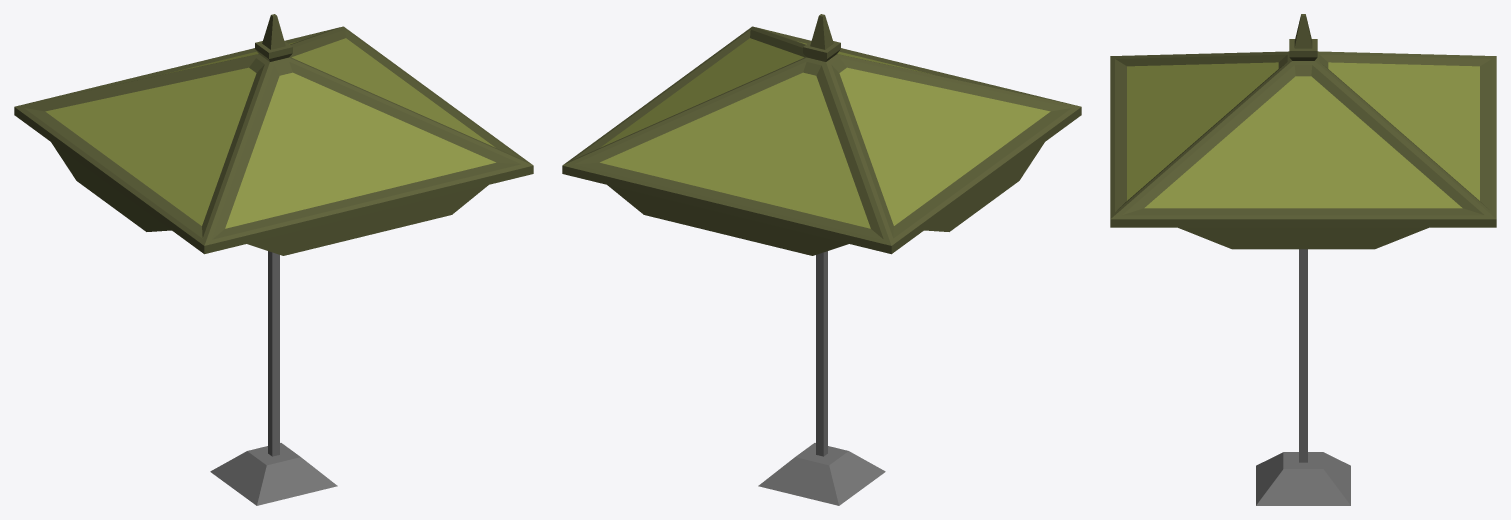
Rendered from Sunshade 1.fbx.
3 renders of one model, left to right at view 1: azimuth 30°, elevation 25°; view 2: azimuth 150°, elevation 25°; view 3: azimuth 270°, elevation 25°, orthographic.
Parts seen in each view (by area): view 1: Sunshade 1; view 2: Sunshade 1; view 3: Sunshade 1.
Boxes of the visible parts, <box> form: Sunshade 1: <box>14,14,533,505</box>; Sunshade 1: <box>562,14,1081,505</box>; Sunshade 1: <box>1110,14,1496,505</box>.
Bounding box in the file's own units: 2.04 × 2.04 × 2.75.
